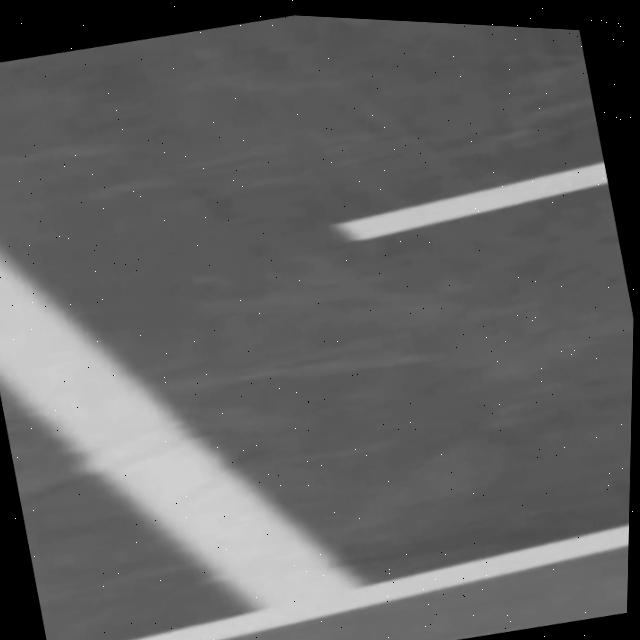center: (333, 161, 608, 240)
left: (127, 524, 629, 640)
